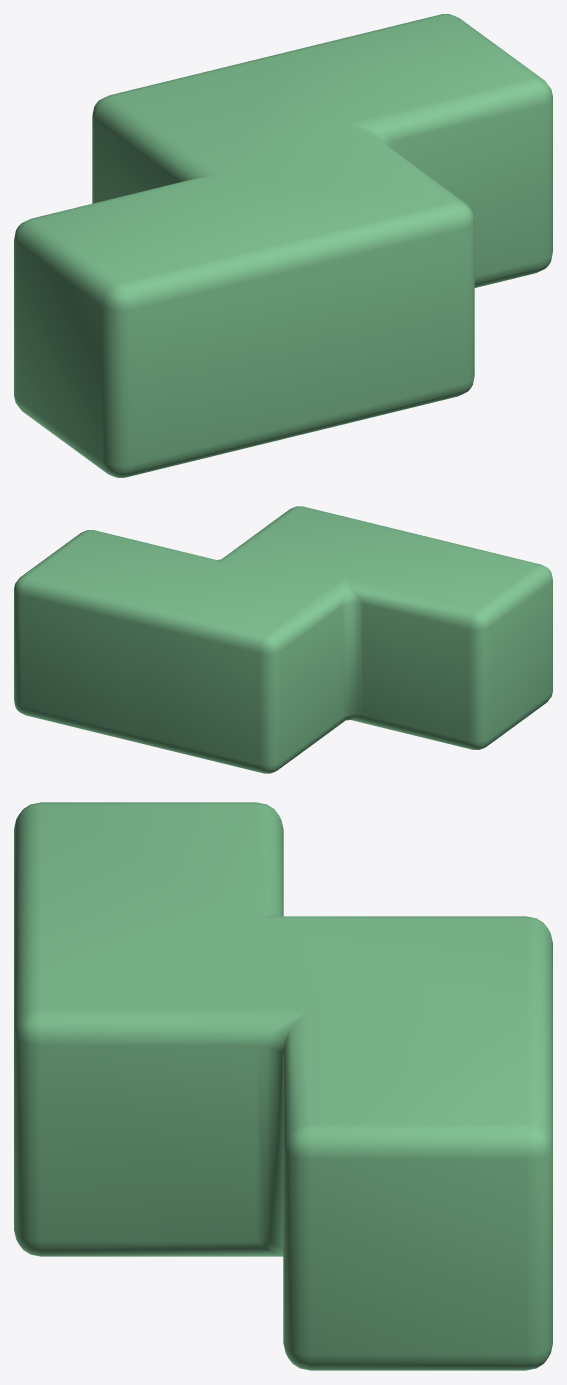
Rendered from z_right_block.glb.
The picture shows the model from 3 angles, top to bottom: view 1: azimuth 30°, elevation 25°; view 2: azimuth 150°, elevation 25°; view 3: azimuth 270°, elevation 25°; orthographic projection. The views are drawn at different scales.
Visible parts, largest first — view 1: Cube; view 2: Cube; view 3: Cube.
Boxes of the visible parts, <box> form: Cube: <box>14,14,552,477</box>; Cube: <box>14,506,552,773</box>; Cube: <box>14,802,552,1370</box>.
Bounding box in the file's own units: 3 × 1 × 2.
